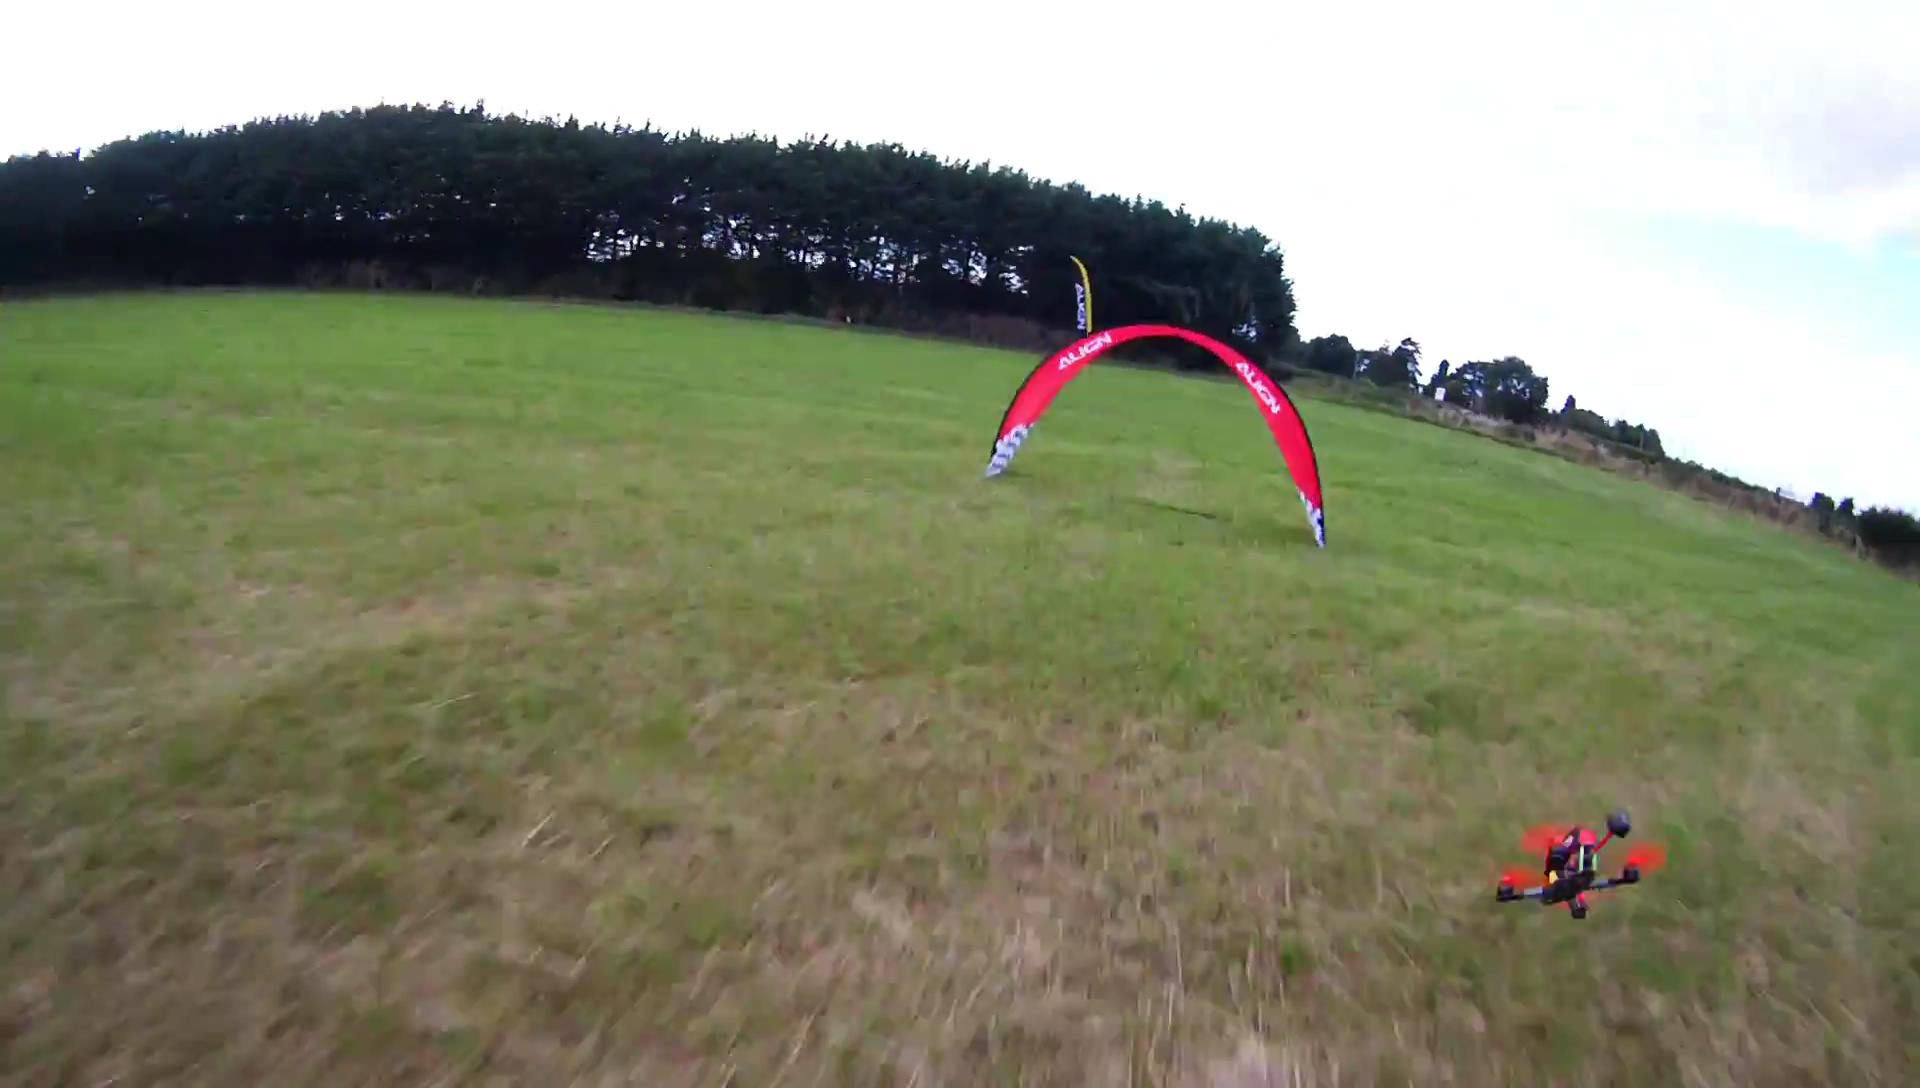gate: (976, 320, 1331, 549)
